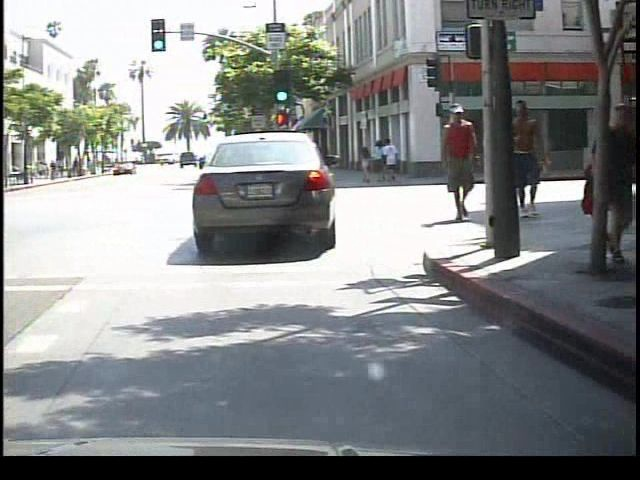person: (434, 101, 479, 223), (509, 96, 549, 225)
